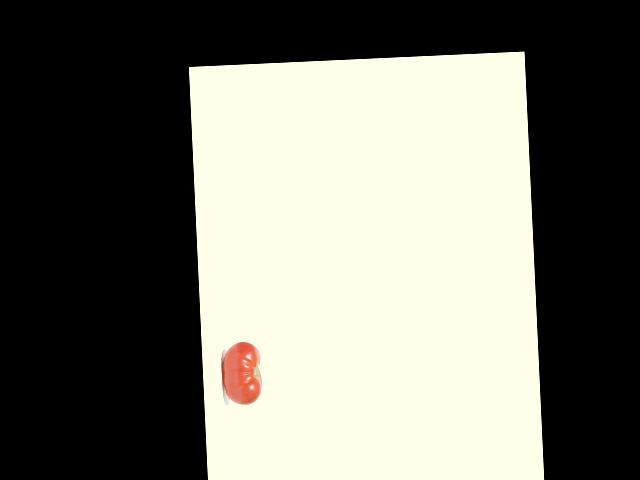tomato: (221, 340, 263, 405)
